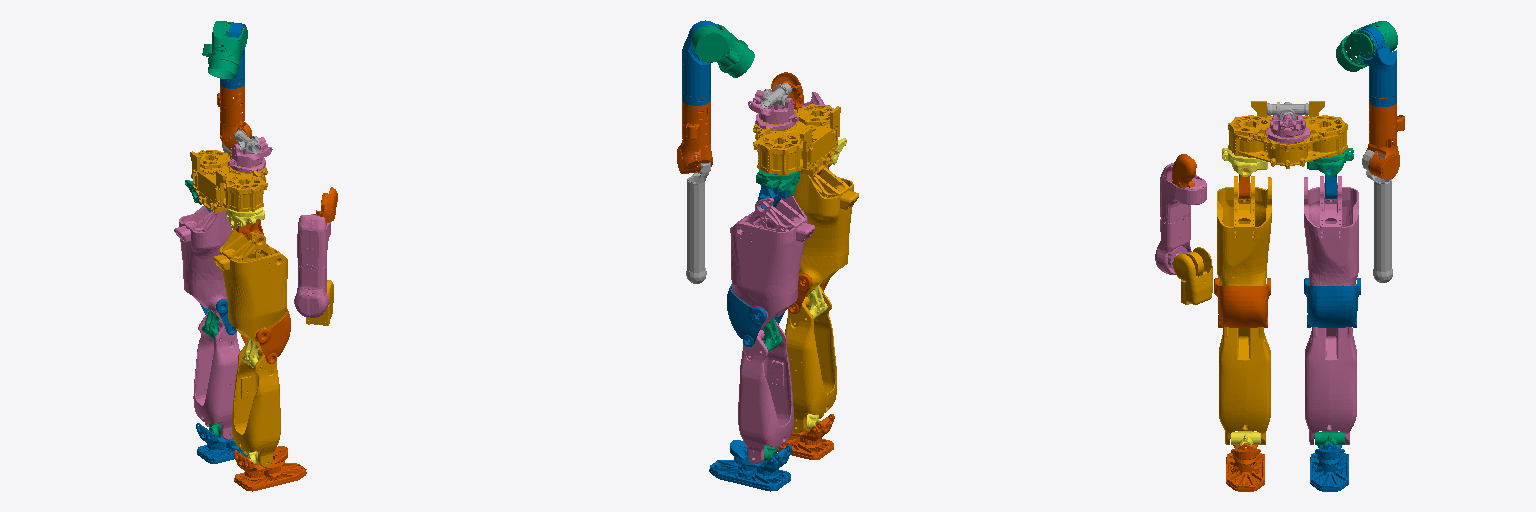
--- What the picture shows (computed from the rendered views, not written in the file) ---
3 views of the same robot in one strip: view 1: azimuth 30°, elevation 25°; view 2: azimuth 150°, elevation 25°; view 3: azimuth 270°, elevation 25° (orthographic).
Robot: nadia — 43 links, 42 joints (32 revolute, 10 fixed); root link PELVIS_LINK; default pose: every joint at zero.
Links seen in each view (by area): view 1: RIGHT_THIGH_LINK, RIGHT_SHIN_LINK, LEFT_THIGH_LINK, LEFT_SHIN_LINK, PELVIS_LINK, RIGHT_WRIST_YAW_LINK, RIGHT_FOOT_LINK, LEFT_SHOULDER_PITCH_LINK, LEFT_SHOULDER_YAW_LINK, RIGHT_KNEE_SHELL_LINK, LEFT_FOOT_LINK, SPINE_YAW_LINK (+2 smaller); view 2: LEFT_THIGH_LINK, LEFT_SHIN_LINK, RIGHT_THIGH_LINK, RIGHT_SHIN_LINK, PELVIS_LINK, LEFT_FOOT_LINK, LEFT_SHOULDER_PITCH_LINK, LEFT_ELBOW_PITCH_LINK, LEFT_SHOULDER_YAW_LINK, LEFT_SHOULDER_ROLL_LINK, LEFT_KNEE_SHELL_LINK, RIGHT_FOOT_LINK (+4 smaller); view 3: LEFT_SHIN_LINK, RIGHT_SHIN_LINK, LEFT_THIGH_LINK, RIGHT_THIGH_LINK, PELVIS_LINK, RIGHT_WRIST_YAW_LINK, LEFT_KNEE_SHELL_LINK, RIGHT_KNEE_SHELL_LINK, LEFT_SHOULDER_YAW_LINK, LEFT_ELBOW_PITCH_LINK, LEFT_SHOULDER_ROLL_LINK, RIGHT_WRIST_PITCH_LINK (+8 smaller).
Boxes of the visible links, <box> form: RIGHT_THIGH_LINK: <box>213,230,287,348</box>; RIGHT_SHIN_LINK: <box>232,341,280,467</box>; LEFT_THIGH_LINK: <box>174,206,231,319</box>; LEFT_SHIN_LINK: <box>193,311,240,439</box>; PELVIS_LINK: <box>190,150,267,212</box>; RIGHT_WRIST_YAW_LINK: <box>294,214,330,318</box>; RIGHT_FOOT_LINK: <box>233,446,306,491</box>; LEFT_SHOULDER_PITCH_LINK: <box>202,21,247,78</box>; LEFT_SHOULDER_YAW_LINK: <box>217,80,251,150</box>; RIGHT_KNEE_SHELL_LINK: <box>241,309,290,363</box>; LEFT_FOOT_LINK: <box>196,423,246,463</box>; SPINE_YAW_LINK: <box>228,136,272,172</box>; LEFT_THIGH_LINK: <box>730,196,814,329</box>; LEFT_SHIN_LINK: <box>738,320,793,464</box>; RIGHT_THIGH_LINK: <box>793,167,858,296</box>; RIGHT_SHIN_LINK: <box>785,287,836,432</box>; PELVIS_LINK: <box>753,104,840,175</box>; LEFT_FOOT_LINK: <box>709,440,791,491</box>; LEFT_SHOULDER_PITCH_LINK: <box>691,24,754,77</box>; LEFT_ELBOW_PITCH_LINK: <box>686,152,710,283</box>; LEFT_SHOULDER_YAW_LINK: <box>677,96,712,173</box>; LEFT_SHOULDER_ROLL_LINK: <box>682,20,718,105</box>; LEFT_KNEE_SHELL_LINK: <box>727,284,784,346</box>; RIGHT_FOOT_LINK: <box>777,414,834,459</box>; LEFT_SHIN_LINK: <box>1305,327,1356,444</box>; RIGHT_SHIN_LINK: <box>1219,327,1270,444</box>; LEFT_THIGH_LINK: <box>1304,176,1358,285</box>; RIGHT_THIGH_LINK: <box>1217,176,1271,285</box>; PELVIS_LINK: <box>1228,101,1347,168</box>; RIGHT_WRIST_YAW_LINK: <box>1155,162,1206,274</box>; LEFT_KNEE_SHELL_LINK: <box>1304,278,1360,327</box>; RIGHT_KNEE_SHELL_LINK: <box>1214,278,1270,327</box>; LEFT_SHOULDER_YAW_LINK: <box>1363,97,1404,179</box>; LEFT_ELBOW_PITCH_LINK: <box>1362,150,1392,282</box>; LEFT_SHOULDER_ROLL_LINK: <box>1356,26,1396,106</box>; RIGHT_WRIST_PITCH_LINK: <box>1173,247,1212,304</box>.
Bounding box of the posed robot: 0.3889 × 0.7727 × 1.56 m (x, y, z).
Meshes: 30 distinct files referenced, 27 mesh visuals loaded (25 OBJ); not drawn: 6 (reference not matched to a file when rendering).

URDF robot description (nadia):
<?xml version = "1.0" ?>
<robot name="nadia" xmlns:xacro="http://www.ros.org/wiki/xacro">

<!-- revolute joints -->
<joint name="LEFT_HIP_Z" type="revolute">
    <origin rpy="0 0 0" xyz="0 0.115 -0.07185" />
    <axis xyz="0 0 -1" />
    <parent link="PELVIS_LINK" />
    <child link="LEFT_HIP_YAW_LINK" />
    <limit effort="1000" lower="-0.7854" upper="0.7854" velocity = "100" />
    <dynamics damping="0.05" friction="0.0"/>
</joint>

<joint name="RIGHT_HIP_Z" type="revolute">
    <origin rpy="0 0 0" xyz="0 -0.115 -0.07185" />
    <axis xyz="0 0 -1" />
    <parent link="PELVIS_LINK" />
    <child link="RIGHT_HIP_YAW_LINK" />
    <limit effort="1000" lower="-0.7854" upper="0.7854" velocity = "100" />
    <dynamics damping="0.05" friction="0.0"/>
</joint>

<joint name="LEFT_HIP_X" type="revolute">
    <origin rpy="0 0 0" xyz="0.035 0.015 -0.04975" />
    <axis xyz="1 0 0" />
    <parent link="LEFT_HIP_YAW_LINK" />
    <child link="LEFT_HIP_ROLL_LINK" />
    <limit effort="1000" lower="-0.5236" upper="1.0472" velocity = "100" />
    <dynamics damping="0.05" friction="0.0"/>
</joint>

<joint name="RIGHT_HIP_X" type="revolute">
    <origin rpy="0 0 0" xyz="0.035 -0.015 -0.04975" />
    <axis xyz="1 0 0" />
    <parent link="RIGHT_HIP_YAW_LINK" />
    <child link="RIGHT_HIP_ROLL_LINK" />
    <limit effort="1000" lower="-1.0472" upper="0.5236" velocity = "100" />
    <dynamics damping="0.05" friction="0.0"/>
</joint>

<joint name="LEFT_HIP_Y" type="revolute">
    <origin rpy="0 0 0" xyz="0 0 -0.079068" />
    <axis xyz="0 1 0" />
    <parent link="LEFT_HIP_ROLL_LINK" />
    <child link="LEFT_THIGH_LINK" />
    <limit effort="1000" lower="-1.57" upper="0.314" velocity = "100" />
    <dynamics damping="0.05" friction="0.0"/>
</joint>

<joint name="RIGHT_HIP_Y" type="revolute">
    <origin rpy="0 0 0" xyz="0 0 -0.079068" />
    <axis xyz="0 1 0" />
    <parent link="RIGHT_HIP_ROLL_LINK" />
    <child link="RIGHT_THIGH_LINK" />
    <limit effort="1000" lower="-1.57" upper="0.314" velocity = "100" />
    <dynamics damping="0.05" friction="0.0"/>
</joint>

<joint name="LEFT_KNEE_SHELL_UPPER_Y" type="revolute">
    <origin rpy="0 0 0" xyz="-0.02113091 0 -0.33468461" />
    <axis xyz="0 1 0" />
    <parent link="LEFT_THIGH_LINK" />
    <child link="LEFT_KNEE_SHELL_LINK" />
    <limit effort="1000" lower="0" upper="2.62" velocity = "100" />
    <dynamics damping="0.05" friction="0.0"/>
</joint>

<joint name="RIGHT_KNEE_SHELL_UPPER_Y" type="revolute">
    <origin rpy="0 0 0" xyz="-0.02113091 0 -0.33468461" />
    <axis xyz="0 1 0" />
    <parent link="RIGHT_THIGH_LINK" />
    <child link="RIGHT_KNEE_SHELL_LINK" />
    <limit effort="1000" lower="0" upper="2.62" velocity = "100" />
    <dynamics damping="0.05" friction="0.0"/>
</joint>

<joint name="LEFT_KNEE_LINKAGE_UPPER_Y" type="revolute">
    <origin rpy="0 0 0" xyz="0 0 -0.38" />
    <axis xyz="0 1 0" />
    <parent link="LEFT_THIGH_LINK" />
    <child link="LEFT_KNEE_LINKAGE_LINK" />
    <limit effort="1000" lower="0" upper="2.62" velocity = "100" />
    <dynamics damping="0.05" friction="0.0"/>
</joint>

<joint name="RIGHT_KNEE_LINKAGE_UPPER_Y" type="revolute">
    <origin rpy="0 0 0" xyz="0 0 -0.38" />
    <axis xyz="0 1 0" />
    <parent link="RIGHT_THIGH_LINK" />
    <child link="RIGHT_KNEE_LINKAGE_LINK" />
    <limit effort="1000" lower="0" upper="2.62" velocity = "100" />
    <dynamics damping="0.05" friction="0.0"/>
</joint>

<joint name="LEFT_KNEE_SHELL_LOWER_Y" type="revolute">
    <origin rpy="0 0 0" xyz="0.04231885 0 -0.10153381" />
    <axis xyz="0 1 0" />
    <parent link="LEFT_KNEE_SHELL_LINK" />
    <child link="LEFT_SHIN_LINK" />
    <limit effort="1000" lower="0" upper="2.62" velocity = "100" />
    <dynamics damping="0.05" friction="0.0"/>
</joint>

<joint name="RIGHT_KNEE_SHELL_LOWER_Y" type="revolute">
    <origin rpy="0 0 0" xyz="0.04231885 0 -0.10153381" />
    <axis xyz="0 1 0" />
    <parent link="RIGHT_KNEE_SHELL_LINK" />
    <child link="RIGHT_SHIN_LINK" />
    <limit effort="1000" lower="0" upper="2.62" velocity = "100" />
    <dynamics damping="0.05" friction="0.0"/>
</joint>

<!--joint name="LEFT_KNEE_LINKAGE_LOWER_Y" type="revolute">
    <origin rpy="0 0 0" xyz="-0.01711428 0 -0.0883578" />
    <axis xyz="0 1 0" />
    <parent link="LEFT_KNEE_LINKAGE_LINK" />
    <child link="LEFT_SHIN_LINK" />
    <limit effort="1000" lower="0" upper="2.62" velocity = "100" />
    <dynamics damping="0.05" friction="0.0"/>
</joint>

<joint name="RIGHT_KNEE_LINKAGE_LOWER_Y" type="revolute">
    <origin rpy="0 0 0" xyz="-0.01711428 0 -0.0883578" />
    <axis xyz="0 1 0" />
    <parent link="RIGHT_KNEE_LINKAGE_LINK" />
    <child link="RIGHT_SHIN_LINK" />
    <limit effort="1000" lower="0" upper="2.62" velocity = "100" />
    <dynamics damping="0.05" friction="0.0"/>
</joint-->

<joint name="LEFT_ANKLE_Y" type="revolute">
    <origin rpy="0 0 0" xyz="-0.00830222 0 -0.40213938" />
    <axis xyz="0 1 0" />
    <parent link="LEFT_SHIN_LINK" />
    <child link="LEFT_ANKLE_LINK" />
    <limit effort="1000" lower="-1.0472" upper="0.698132" velocity = "100" />
    <dynamics damping="0.05" friction="0.0"/>
</joint>

<joint name="RIGHT_ANKLE_Y" type="revolute">
    <origin rpy="0 0 0" xyz="-0.00830222 0 -0.40213938" />
    <axis xyz="0 1 0" />
    <parent link="RIGHT_SHIN_LINK" />
    <child link="RIGHT_ANKLE_LINK" />
    <limit effort="1000" lower="-1.0472" upper="0.698132" velocity = "100" />
    <dynamics damping="0.05" friction="0.0"/>
</joint>

<joint name="LEFT_ANKLE_X" type="revolute">
    <origin rpy="0 0 0" xyz="0 0 -0.01" />
    <axis xyz="1 0 0" />
    <parent link="LEFT_ANKLE_LINK" />
    <child link="LEFT_FOOT_LINK" />
    <limit effort="1000" lower="-0.436332" upper="0.436332" velocity = "100" />
    <dynamics damping="0.05" friction="0.0"/>
</joint>

<joint name="RIGHT_ANKLE_X" type="revolute">
    <origin rpy="0 0 0" xyz="0 0 -0.01" />
    <axis xyz="1 0 0" />
    <parent link="RIGHT_ANKLE_LINK" />
    <child link="RIGHT_FOOT_LINK" />
    <limit effort="1000" lower="-0.436332" upper="0.436332" velocity = "100" />
    <dynamics damping="0.05" friction="0.0"/>
</joint>

<joint name="SPINE_Z" type="revolute">
    <origin rpy="0 0 0" xyz="0.08 0 0.00635" />
    <axis xyz="0 0 1" />
    <parent link="PELVIS_LINK" />
    <child link="SPINE_YAW_LINK" />
    <limit effort="1000" lower="-1.0472" upper="1.0472" velocity = "100" />
    <dynamics damping="0.05" friction="0.0"/>
</joint>

<joint name="SPINE_X" type="revolute">
    <origin rpy="0 0 0" xyz="0 0 0.08205" />
    <axis xyz="1 0 0" />
    <parent link="SPINE_YAW_LINK" />
    <child link="SPINE_ROLL_LINK" />
    <limit effort="1000" lower="-0.523599" upper="0.523599" velocity = "100" />
    <dynamics damping="0.05" friction="0.0"/>
</joint>

<joint name="SPINE_Y" type="revolute">
    <origin rpy="0 0 0" xyz="0 0 0.01" />
    <axis xyz="0 1 0" />
    <parent link="SPINE_ROLL_LINK" />
    <child link="TORSO_LINK" />
    <limit effort="1000" lower="-1.0472" upper="1.0472" velocity = "100" />
    <dynamics damping="0.05" friction="0.0"/>
</joint>


<!-- links -->
<link name="PELVIS_LINK">
  <inertial>
    <mass value="19.0917"/>
    <origin rpy="0 0 0" xyz="0.02073086 2.023E-05 -0.0309812"/>
    <inertia ixx="0.0942" ixy="6.05E-06" ixz="0.000379" iyy="0.0416" iyz="3.37E-07" izz="0.112" />
  </inertial>
  <visual>
    <geometry>
      <mesh filename="package://nadia_V16_description/meshes/pelvis.obj"/>
    </geometry>
    <origin rpy="0.0 0.0 0.0" xyz="0.0 0.0 0.0"/>
  </visual>
</link>

<!-- pelvis_stim_imu -->
  <joint name="PELVIS_STIM_IMU_JOINT" type="fixed">
    <parent link="PELVIS_LINK"/>
    <child link="PELVIS_STIM_IMU_LINK"/>
    <origin xyz="-0.03133646 0.02237500 -0.07000000" rpy="0.0 3.141592 0.0"/>
  </joint>

  <link name="PELVIS_STIM_IMU_LINK">
    <inertial>
      <mass value="0.0" />
      <origin xyz="0 0 0" rpy="0 0 0" />
      <inertia ixx="0.0" ixy="0.0" ixz="0.0" iyy="0.0" iyz="0.0" izz="0.0" />
    </inertial>
  </link>

  <gazebo reference="PELVIS_STIM_IMU_LINK">
    <sensor name="pelvis_stim_imu" type="imu">
      <always_on>1</always_on>
      <update_rate>1000.0</update_rate>
      <imu>
        <noise>
          <type>gaussian</type>
          <rate>
            <mean>0.0</mean>
            <stddev>2e-4</stddev>
            <bias_mean>0.0000075</bias_mean>
            <bias_stddev>0.0000008</bias_stddev>
          </rate>
          <accel>
            <mean>0.0</mean>
            <stddev>1.7e-2</stddev>
            <bias_mean>0.1</bias_mean>
            <bias_stddev>0.001</bias_stddev>
          </accel>
        </noise>
      </imu>
    </sensor>
  </gazebo>
 <!-- end pelvis stim imu -->

<link name="LEFT_HIP_YAW_LINK">
  <inertial>
    <mass value="1.814"/>
    <origin rpy="0 0 0" xyz="-0.00629727 0.00606893 -0.03971844"/>
    <inertia ixx="0.004741914" ixy="0.000527" ixz="-0.000307" iyy="0.00414" iyz="1.36E-05" izz="0.00569" />
  </inertial>
  <visual>
    <geometry>
      <mesh filename="package://nadia_V16_description/meshes/left_hip_yaw.obj"/>
    </geometry>
    <origin rpy="0.0 0.0 0.0" xyz="0.0 0.0 0.0"/>
  </visual>
</link>

<link name="RIGHT_HIP_YAW_LINK">
  <inertial>
    <mass value="1.814"/>
    <origin rpy="0 0 0" xyz="-0.00629727 -0.00606893 -0.03971844"/>
    <inertia ixx="0.004741914" ixy="-0.000527" ixz="-0.000307" iyy="0.00414" iyz="-1.36E-05" izz="0.00569" />
  </inertial>
  <visual>
    <geometry>
      <mesh filename="package://nadia_V16_description/meshes/right_hip_yaw.obj"/>
    </geometry>
    <origin rpy="0.0 0.0 0.0" xyz="0.0 0.0 0.0"/>
  </visual>
</link>

<link name="LEFT_HIP_ROLL_LINK">
  <inertial>
    <mass value="0.762"/>
    <origin rpy="0 0 0" xyz="-0.01327037 0.00316985 -0.05399997"/>
    <inertia ixx="0.001028994" ixy="-9.31E-06" ixz="0.000352" iyy="0.00138" iyz="3.22E-05" izz="0.000663" />
  </inertial>
  <visual>
    <geometry>
      <mesh filename="package://nadia_V16_description/meshes/left_hip_roll.obj"/>
    </geometry>
    <origin rpy="0.0 0.0 0.0" xyz="0.0 0.0 0.0"/>
  </visual>
</link>

<link name="RIGHT_HIP_ROLL_LINK">
  <inertial>
    <mass value="0.762"/>
    <origin rpy="0 0 0" xyz="-0.01327037 -0.00316985 -0.05399997"/>
    <inertia ixx="0.001028994" ixy="9.31E-06" ixz="0.000352" iyy="0.00138" iyz="-3.22E-05" izz="0.000663" />
  </inertial>
  <visual>
    <geometry>
      <mesh filename="package://nadia_V16_description/meshes/right_hip_roll.obj"/>
    </geometry>
    <origin rpy="0.0 0.0 0.0" xyz="0.0 0.0 0.0"/>
  </visual>
</link>

<link name="LEFT_THIGH_LINK">
  <inertial>
    <mass value="10.953"/>
    <origin rpy="0 0 0" xyz="-0.00093749 0.01134511 -0.17863144"/>
    <inertia ixx="0.1622268263" ixy="-0.000749" ixz="0.0156" iyy="0.174" iyz="0.00213" izz="0.0528" />
  </inertial>
  <visual>
    <geometry>
      <mesh filename="package://nadia_V16_description/meshes/left_thigh.obj"/>
    </geometry>
    <origin rpy="0.0 0.0 0.0" xyz="0.0 0.0 0.0"/>
  </visual>
</link>

<!-- left thigh imu -->
  <joint name="LEFT_THIGH_IMU_JOINT" type="fixed">
    <parent link="LEFT_THIGH_LINK"/>
    <child link="LEFT_THIGH_IMU_LINK"/>
    <origin xyz="0.05793744 0.01666131 -0.09511697" rpy="2.025  0.000 -1.571"/>  
  </joint>

  <link name="LEFT_THIGH_IMU_LINK">
    <inertial>
      <mass value="0.0" />
      <origin xyz="0 0 0" rpy="0 0 0" />
      <inertia ixx="0.0" ixy="0.0" ixz="0.0" iyy="0.0" iyz="0.0" izz="0.0" />
    </inertial>
  </link>

  <gazebo reference="LEFT_THIGH_IMU_LINK">
    <sensor name="left_thigh_imu" type="imu">
      <always_on>1</always_on>
      <update_rate>1000.0</update_rate>
      <imu>
        <noise>
          <type>gaussian</type>
          <rate>
            <mean>0.0</mean>
            <stddev>2e-4</stddev>
            <bias_mean>0.0000075</bias_mean>
            <bias_stddev>0.0000008</bias_stddev>
          </rate>
          <accel>
            <mean>0.0</mean>
            <stddev>1.7e-2</stddev>
            <bias_mean>0.1</bias_mean>
            <bias_stddev>0.001</bias_stddev>
          </accel>
        </noise>
      </imu>
    </sensor>
  </gazebo>
<!-- end left thigh imu -->

<link name="RIGHT_THIGH_LINK">
  <inertial>
    <mass value="10.953"/>
    <origin rpy="0 0 0" xyz="-0.00093749 -0.01134511 -0.17863144"/>
    <inertia ixx="0.1622268263" ixy="0.000749" ixz="0.0156" iyy="0.174" iyz="-0.00213" izz="0.0528" />
  </inertial>
  <visual>
    <geometry>
      <mesh filename="package://nadia_V16_description/meshes/right_thigh.obj"/>
    </geometry>
    <origin rpy="0.0 0.0 0.0" xyz="0.0 0.0 0.0"/>
  </visual>
</link>

<!-- right thigh imu -->
  <joint name="RIGHT_THIGH_IMU_JOINT" type="fixed">
    <parent link="RIGHT_THIGH_LINK"/>
    <child link="RIGHT_THIGH_IMU_LINK"/>
    <origin xyz="0.05793670 0.01066129 -0.09511742" rpy="2.025  0.000 -1.571"/>  
  </joint>

  <link name="RIGHT_THIGH_IMU_LINK">
    <inertial>
      <mass value="0.0" />
      <origin xyz="0 0 0" rpy="0 0 0" />
      <inertia ixx="0.0" ixy="0.0" ixz="0.0" iyy="0.0" iyz="0.0" izz="0.0" />
    </inertial>
  </link>

  <gazebo reference="RIGHT_THIGH_IMU_LINK">
    <sensor name="right_thigh_imu" type="imu">
      <always_on>1</always_on>
      <update_rate>1000.0</update_rate>
      <imu>
        <noise>
          <type>gaussian</type>
          <rate>
            <mean>0.0</mean>
            <stddev>2e-4</stddev>
            <bias_mean>0.0000075</bias_mean>
            <bias_stddev>0.0000008</bias_stddev>
          </rate>
          <accel>
            <mean>0.0</mean>
            <stddev>1.7e-2</stddev>
            <bias_mean>0.1</bias_mean>
            <bias_stddev>0.001</bias_stddev>
          </accel>
        </noise>
      </imu>
    </sensor>
  </gazebo>
<!-- end right thigh imu -->

<link name="LEFT_KNEE_LINKAGE_LINK">
  <inertial>
    <mass value="0.936"/>
    <origin rpy="0 0 0" xyz="0.00901763 0.00753613 -0.04368231"/>
    <inertia ixx="0.002617337" ixy="3.06E-07" ixz="0.000313" iyy="0.00159" iyz="1.51E-06" izz="0.00128" />
  </inertial>
  <visual>
    <geometry>
      <mesh filename="package://nadia_V16_description/meshes/left_knee_linkage.obj"/>
    </geometry>
    <origin rpy="0.0 0.0 0.0" xyz="0.0 0.0 0.0"/>
  </visual>
</link>

<link name="RIGHT_KNEE_LINKAGE_LINK">
  <inertial>
    <mass value="0.936"/>
    <origin rpy="0 0 0" xyz="0.00901763 -0.00753613 -0.04368231"/>
    <inertia ixx="0.002617337" ixy="-3.06E-07" ixz="0.000313" iyy="0.00159" iyz="-1.51E-06" izz="0.00128" />
  </inertial>
  <visual>
    <geometry>
      <mesh filename="package://nadia_V16_description/meshes/right_knee_linkage.obj"/>
    </geometry>
    <origin rpy="0.0 0.0 0.0" xyz="0.0 0.0 0.0"/>
  </visual>
</link>

<link name="LEFT_KNEE_SHELL_LINK">
  <inertial>
    <mass value="1.101"/>
    <origin rpy="0 0 0" xyz="0.02489954 0.00826196 -0.05330217"/>
    <inertia ixx="0.00642" ixy="-3.64E-05" ixz="1.43E-05" iyy="0.00456" iyz="-6.54E-05" izz="0.00566" />
  </inertial>
  <visual>
    <geometry>
      <mesh filename="package://nadia_V16_description/meshes/left_knee_shell.obj"/>
    </geometry>
    <origin rpy="0.0 0.0 0.0" xyz="0.0 0.0 0.0"/>
  </visual>
</link>

<link name="RIGHT_KNEE_SHELL_LINK">
  <inertial>
    <mass value="1.101"/>
    <origin rpy="0 0 0" xyz="0.02489954 -0.00826196 -0.05330217"/>
    <inertia ixx="0.00642" ixy="3.64E-05" ixz="1.43E-05" iyy="0.00456" iyz="6.54E-05" izz="0.00566" />
  </inertial>
  <visual>
    <geometry>
      <mesh filename="package://nadia_V16_description/meshes/right_knee_shell.obj"/>
    </geometry>
    <origin rpy="0.0 0.0 0.0" xyz="0.0 0.0 0.0"/>
  </visual>
</link>

<link name="LEFT_SHIN_LINK">
  <inertial>
    <mass value="5.42"/>
    <origin rpy="0 0 0" xyz="-0.01841492 0.00228086 -0.22054239"/>
    <inertia ixx="0.064437783" ixy="-0.000214" ixz="-0.00538" iyy="0.0583" iyz="-0.000962" izz="0.0136" />
  </inertial>
  <visual>
    <geometry>
      <mesh filename="package://nadia_V16_description/meshes/left_shin.obj"/>
    </geometry>
    <origin rpy="0.0 0.0 0.0" xyz="0.0 0.0 0.0"/>
  </visual>
</link>


<!-- left shin imu -->
  <joint name="LEFT_SHIN_IMU_JOINT" type="fixed">
    <parent link="LEFT_SHIN_LINK"/>
    <child link="LEFT_SHIN_IMU_LINK"/>
    <origin xyz="-0.03216129 -0.07159184 -0.1864738" rpy="-1.570796 0.0 0.0"/>  
  </joint>

  <link name="LEFT_SHIN_IMU_LINK">
    <inertial>
      <mass value="0.0" />
      <origin xyz="0 0 0" rpy="0 0 0" />
      <inertia ixx="0.0" ixy="0.0" ixz="0.0" iyy="0.0" iyz="0.0" izz="0.0" />
    </inertial>
  </link>

  <gazebo reference="LEFT_SHIN_IMU_LINK">
    <sensor name="left_shin_imu" type="imu">
      <always_on>1</always_on>
      <update_rate>1000.0</update_rate>
      <imu>
        <noise>
          <type>gaussian</type>
          <rate>
            <mean>0.0</mean>
            <stddev>2e-4</stddev>
            <bias_mean>0.0000075</bias_mean>
            <bias_stddev>0.0000008</bias_stddev>
          </rate>
          <accel>
            <mean>0.0</mean>
            <stddev>1.7e-2</stddev>
            <bias_mean>0.1</bias_mean>
            <bias_stddev>0.001</bias_stddev>
          </accel>
        </noise>
      </imu>
    </sensor>
  </gazebo>
<!-- end left shin imu -->

<link name="RIGHT_SHIN_LINK">
  <inertial>
    <mass value="5.42"/>
    <origin rpy="0 0 0" xyz="-0.01837047 -0.00241134 -0.21991278"/>
    <inertia ixx="0.064443143" ixy="0.000202" ixz="-0.00539" iyy="0.0583" iyz="0.000906" izz="0.0136" />
  </inertial>
  <visual>
    <geometry>
      <mesh filename="package://nadia_V16_description/meshes/right_shin.obj"/>
    </geometry>
    <origin rpy="0.0 0.0 0.0" xyz="0.0 0.0 0.0"/>
  </visual>
</link>

<!-- right shin imu -->
  <joint name="RIGHT_SHIN_IMU_JOINT" type="fixed">
    <parent link="RIGHT_SHIN_LINK"/>
    <child link="RIGHT_SHIN_IMU_LINK"/>
    <origin xyz="-0.002838710 0.07159142 -0.1864738" rpy="-1.570796 0.0 3.141592"/>  
  </joint>

  <link name="RIGHT_SHIN_IMU_LINK">
    <inertial>
      <mass value="0.0" />
      <origin xyz="0 0 0" rpy="0 0 0" />
      <inertia ixx="0.0" ixy="0.0" ixz="0.0" iyy="0.0" iyz="0.0" izz="0.0" />
    </inertial>
  </link>

  <gazebo reference="RIGHT_SHIN_IMU_LINK">
    <sensor name="right_shin_imu" type="imu">
      <always_on>1</always_on>
      <update_rate>1000.0</update_rate>
      <imu>
        <noise>
          <type>gaussian</type>
          <rate>
            <mean>0.0</mean>
            <stddev>2e-4</stddev>
            <bias_mean>0.0000075</bias_mean>
            <bias_stddev>0.0000008</bias_stddev>
          </rate>
          <accel>
            <mean>0.0</mean>
            <stddev>1.7e-2</stddev>
            <bias_mean>0.1</bias_mean>
            <bias_stddev>0.001</bias_stddev>
          </accel>
        </noise>
      </imu>
    </sensor>
  </gazebo>
<!-- end right shin imu -->

<link name="LEFT_ANKLE_LINK">
  <inertial>
    <mass value="0.56"/>
    <origin rpy="0 0 0" xyz="-0.00072338 -6.619E-05 -0.00399965"/>
    <inertia ixx="0.000459" ixy="2.65E-08" ixz="-2.43E-06" iyy="0.000336" iyz="1.48E-07" izz="0.000645" />
  </inertial>
  <visual>
    <geometry>
      <mesh filename="package://nadia_V16_description/meshes/ankle.obj"/>
    </geometry>
    <origin rpy="0.0 0.0 0.0" xyz="0.0 0.0 0.0"/>
  </visual>
</link>

<link name="RIGHT_ANKLE_LINK">
  <inertial>
    <mass value="0.56"/>
    <origin rpy="0 0 0" xyz="-0.00072338 6.619E-05 -0.00399965"/>
    <inertia ixx="0.000459" ixy="-2.65E-08" ixz="-2.43E-06" iyy="0.000336" iyz="-1.48E-07" izz="0.000645" />
  </inertial>
  <visual>
    <geometry>
      <mesh filename="package://nadia_V16_description/meshes/ankle.obj"/>
    </geometry>
    <origin rpy="0.0 0.0 0.0" xyz="0.0 0.0 0.0"/>
  </visual>
</link>

<link name="LEFT_FOOT_LINK">
  <inertial>
    <mass value="1.75"/>
    <origin rpy="0 0 0" xyz="0.03075449 0.00007807 -0.04382467"/>
    <inertia ixx="0.00345011" ixy="-0.0000073" ixz="0.0014225" iyy="0.00955764" iyz="-2.269e-7" izz="0.00881313" />
  </inertial>
  <visual>
    <geometry>
      <mesh filename="package://nadia_V16_description/meshes/foot.obj"/>
    </geometry>
    <origin rpy="0.0 0.0 0.0" xyz="0.0 0.0 0.0"/>
  </visual>
</link>

<link name="RIGHT_FOOT_LINK">
  <inertial>
    <mass value="1.75"/>
    <origin rpy="0 0 0" xyz="0.032048 4e-06 -0.028422"/>
    <inertia ixx="0.00345011" ixy="-0.0000073" ixz="0.0014225" iyy="0.00955764" iyz="-2.269e-7" izz="0.00881313" />
  </inertial>
  <visual>
    <geometry>
      <mesh filename="package://nadia_V16_description/meshes/foot.obj"/>
    </geometry>
    <origin rpy="0.0 0.0 0.0" xyz="0.0 0.0 0.0"/>
  </visual>
</link>

<link name="SPINE_YAW_LINK">
  <inertial>
    <mass value="0.91"/>
    <origin rpy="0 0 0" xyz="-0.00853118 -2.697E-05 0.03791445"/>
    <inertia ixx="0.00374289408" ixy="1.25497934E-07" ixz="0.000271325072" iyy="0.00403002777" iyz="-1.38015692E-07" izz="0.0062129847" />
  </inertial>
  <visual>
    <geometry>
      <mesh filename="package://nadia_V16_description/meshes/spine_yaw.obj"/>
    </geometry>
    <origin rpy="0.0 0.0 0.0" xyz="0.0 0.0 0.0"/>
  </visual>
</link>

<link name="SPINE_ROLL_LINK">
  <inertial>
    <mass value="0.44"/>
    <origin rpy="0 0 0" xyz="-0.01904983 7E-08 0.01979244"/>
    <inertia ixx="0.000373262301" ixy="-1.51441878E-10" ixz="-6.69067307E-05" iyy="0.000649978475" iyz="-1.27858402E-10" izz="0.000419408851" />
  </inertial>
  <visual>
    <geometry>
      <mesh filename="package://nadia_V16_description/meshes/spine_roll.obj"/>
    </geometry>
    <origin rpy="0.0 0.0 0.0" xyz="0.0 0.0 0.0"/>
  </visual>
</link>

<link name="TORSO_LINK">
  <inertial>
    <mass value="13.5"/>
    <origin rpy="0 0 0" xyz="-0.03613868 -2.81E-06 0.25908586"/>
    <inertia ixx="0.534504681" ixy="8.41519717E-05" ixz="-0.00672956305" iyy="0.505409852" iyz="0.000207996773" izz="0.379402013" />
  </inertial>
  <visual>
    <geometry>
      <mesh filename="package://nadia_V16_description/meshes/torso_cycloidmounts.obj"/>
    </geometry>
    <origin rpy="0.0 0.0 0.0" xyz="0.0 0.0 0.0"/>
  </visual>
</link>

<!-- torso imu -->
  <joint name="TORSO_IMU_JOINT" type="fixed">
    <parent link="TORSO_LINK"/>
    <child link="TORSO_IMU_LINK"/>
    <origin xyz="0.04529 -0.02427 0.33757" rpy="3.141592 0 0"/>  
  </joint>

  <link name="TORSO_IMU_LINK">
    <inertial>
      <mass value="0.0" />
      <origin xyz="0 0 0" rpy="0 0 0" />
      <inertia ixx="0.0" ixy="0.0" ixz="0.0" iyy="0.0" iyz="0.0" izz="0.0" />
    </inertial>
  </link>

  <gazebo reference="TORSO_IMU_LINK">
    <sensor name="torso_imu" type="imu">
      <always_on>1</always_on>
      <update_rate>1000.0</update_rate>
      <imu>
        <noise>
          <type>gaussian</type>
          <rate>
            <mean>0.0</mean>
            <stddev>2e-4</stddev>
            <bias_mean>0.0000075</bias_mean>
            <bias_stddev>0.0000008</bias_stddev>
          </rate>
          <accel>
            <mean>0.0</mean>
            <stddev>1.7e-2</stddev>
            <bias_mean>0.1</bias_mean>
            <bias_stddev>0.001</bias_stddev>
          </accel>
        </noise>
      </imu>
    </sensor>
  </gazebo>
<!-- end torso imu -->

<!-- left arm -->
<joint name="LEFT_SHOULDER_Y" type="revolute">
    <origin xyz="0.001 0.185 0.173" rpy="0.785398163 0.0 -0.785398163"   />
    <axis xyz="0.0 1.0 0.0" />
    <parent link="TORSO_LINK" />
    <child link="LEFT_SHOULDER_PITCH_LINK" />
    
    <!-- Peak torque, 10s duration -->
<!--    <limit effort="165.98" lower="-3.141592" upper="1.22173" velocity = "100" />-->

    <!-- Peak continuous torque -->
    <limit effort="51.87" lower="-3.141592" upper="1.22173" velocity = "100" />

    <dynamics damping="0.05" friction="0.0"/>
</joint>
<joint name="LEFT_SHOULDER_X" type="revolute">
    <origin rpy="-0.785398163 0.0 0.0" xyz="0.0 0.15676000 -0.01300000" />
    <axis xyz="1 0 0" />
    <parent link="LEFT_SHOULDER_PITCH_LINK" />
    <child link="LEFT_SHOULDER_ROLL_LINK" />
    
    <!-- Peak torque, 10s duration -->
<!--    <limit effort="183.74" lower="-0.261799" upper="2.87979" velocity = "100" />-->

    <!-- Peak continuous torque -->
    <limit effort="57.45" lower="-0.261799" upper="2.87979" velocity = "100" />

    <dynamics damping="0.05" friction="0.0"/>
</joint>
<joint name="LEFT_SHOULDER_Z" type="revolute">
    <origin rpy="0.0 0.0 0.0" xyz="0.0 0.035 0.0" />
    <axis xyz="0.0 0.0 1.0" />
    <parent link="LEFT_SHOULDER_ROLL_LINK" />
    <child link="LEFT_SHOULDER_YAW_LINK" />
    
    <!-- Peak current, 10s duration -->
<!--    <limit effort="78.37" lower="-1.91986" upper="1.22173" velocity = "100" />-->

    <!-- Peak continuous torque -->
    <limit effort="24.47" lower="-1.91986" upper="1.22173" velocity = "100" />

    <dynamics damping="0.05" friction="0.0"/>
</joint>
<joint name="LEFT_ELBOW_Y" type="revolute">
    <origin rpy="0.0 0.0 0.0" xyz="0.015 0.0 -0.4" />
    <axis xyz="0.0 1.0 0.0" />
    <parent link="LEFT_SHOULDER_YAW_LINK" />
    <child link="LEFT_ELBOW_PITCH_LINK" />
    
    <!-- Peak torque, 10s duration -->
<!--    <limit effort="78.37" lower="-2.35619" upper="0.174532925" velocity = "100" />-->

    <!-- Peak continuous torque -->
    <limit effort="24.47" lower="-2.35619" upper="0.174532925" velocity = "100" />

    <dynamics damping="0.05" friction="0.0"/>
</joint>

<!-- TMOTOR FOREARM
<joint name="LEFT_WRIST_Z" type="revolute">
    <origin rpy="0.0 0.0 0.0" xyz="-0.015 0.0 0.0"/>
    <axis xyz="0.0 0.0 1.0"/>
    <parent link="LEFT_ELBOW_PITCH_LINK"/>
    <child link="LEFT_WRIST_YAW_LINK"/>
    <dynamics damping="0.05" friction="0.0"/>
    <limit effort="1000.0" lower="-2.05" upper="1.5" velocity="100.0"/>
</joint>
<joint name="LEFT_WRIST_X" type="revolute">
    <origin xyz="-1.600000000000251E-5 1.500000000011154E-5 -0.3515" rpy="0.0 0.0 0.0"/>
    <axis xyz="0.9999999990320001 0.0 -4.3999999957408004E-5"/>
    <parent link="LEFT_WRIST_YAW_LINK"/>
    <child link="LEFT_WRIST_ROLL_LINK"/>
    <dynamics damping="0.05" friction="0.0"/>
    <limit effort="1000.0" lower="-2.4" upper="2.4" velocity="100.0"/>
</joint>
<joint name="LEFT_WRIST_Y" type="revolute">
    <origin xyz="0.0 0.0 0.0" rpy="0.0 0.0 0.0"/>
    <axis xyz="4.2999999920492997E-5 0.9999999981509999 4.2999999920492997E-5"/>
    <parent link="LEFT_WRIST_ROLL_LINK"/>
    <child link="LEFT_WRIST_PITCH_LINK"/>
    <dynamics damping="0.05" friction="0.0"/>
    <limit effort="1000.0" lower="-2.75" upper="0.1" velocity="100.0"/>
</joint>
<joint name="LEFT_GRIPPER_X1" type="revolute">
    <origin xyz="0.0 0.03 -0.11" rpy="-0.25 0.0 0.0"/>
    <axis xyz="1.0 0.0 0.0"/>
    <parent link="LEFT_WRIST_PITCH_LINK"/>
    <child link="LEFT_GRIPPER_ROLL1_LINK"/>
    <dynamics damping="0.05" friction="0.0"/>
    <limit effort="1.0" lower="-0.06" upper="1.9" velocity="3.67"/>
</joint>
<joint name="LEFT_GRIPPER_X2" type="revolute">
    <origin xyz="0.0 -0.03 -0.11" rpy="0.25 0.0 0.0"/>
    <axis xyz="-1.0 0.0 0.0"/>
    <parent link="LEFT_WRIST_PITCH_LINK"/>
    <child link="LEFT_GRIPPER_ROLL2_LINK"/>
    <dynamics damping="0.05" friction="0.0"/>
    <limit effort="1.0" lower="-0.06" upper="1.9" velocity="3.67"/>
</joint>
-->

<link name="LEFT_SHOULDER_PITCH_LINK">
  <inertial>
    <mass value="2.917"/>
    <origin rpy="0 0 0" xyz="-0.00117 0.1400097 -0.00621"/>
    <inertia ixx="0.0108367" ixy="1.356e-4" ixz="-2.666e-5" iyy="0.00498324" iyz="0.00090758" izz="0.01142661" />
  </inertial>
  <visual>
    <geometry>
<!-- DEFAULT MESH -->
      <mesh filename="package://nadia_V17_description/meshes/cycloidal_arm/LEFT_SHOULDER_PITCH_LINK.obj"/>

        <!-- MESH WITH IMU CHIP -->
<!--        <mesh filename="package://nadia_V17_description/meshes/cycloidal_arm/LEFT_SHOULDER_PITCH_LINK_WITH_IMU.obj"/>-->
    </geometry>
    <origin rpy="0.0 0.0 0.0" xyz="0.0 0.0 0.0"/>
  </visual>
</link>

<!-- LEFT SHOULDER PITCH IMU Information -->
<joint name="LEFT_SHOULDER_PITCH_IMU_JOINT" type="fixed">
	<origin rpy="-1.570796 1.570796 0" xyz="0.0174 0.06944 -0.03025"/>
	<axis xyz="0 0 1"/>
	<parent link="LEFT_SHOULDER_PITCH_LINK"/>
	<child link="LEFT_SHOULDER_PITCH_IMU_LINK"/>
</joint>

<link name="LEFT_SHOULDER_PITCH_IMU_LINK">
    <inertial>
      <mass value="0"/>
      <origin rpy="0 0 0" xyz="0 0 0"/>
      <inertia ixx="0.0" ixy="0.0" ixz="0.0" iyy="0.0" iyz="0.0" izz="0.0"/>
    </inertial>
</link>

<gazebo reference="LEFT_SHOULDER_PITCH_IMU_LINK">
	<sensor name="left_shoulder_pitch_imu" type="imu">
	  <always_on>true</always_on>
	  <imu>
		<noise>
		  <type>gaussian</type>
		  <rate>
			<mean>0</mean>
			<stddev>0.0002</stddev>
			<bias_mean>7.5e-06</bias_mean>
			<bias_stddev>8e-07</bias_stddev>
		  </rate>
		  <accel>
			<mean>0</mean>
			<stddev>0.017</stddev>
			<bias_mean>0.1</bias_mean>
			<bias_stddev>0.001</bias_stddev>
		  </accel>
		</noise>
	  </imu>
	</sensor>
</gazebo>

<link name="LEFT_SHOULDER_ROLL_LINK">
  <inertial>
    <mass value="1.17068"/>
    <origin rpy="0 0 0" xyz="0.01053 0.02124 -0.1052690"/>
    <inertia ixx="0.00787035" ixy="1.667e-4" ixz="-0.00075945" iyy="0.00727481" iyz="0.000988837" izz="0.00182144" />
  </inertial>
  <visual>
    <geometry>
      <mesh filename="package://nadia_V17_description/meshes/cycloidal_arm/LEFT_SHOULDER_ROLL_LINK.obj"/>
    </geometry>
    <origin rpy="0.0 0.0 0.0" xyz="0.0 0.0 0.0"/>
  </visual>
</link>

<link name="LEFT_SHOULDER_YAW_LINK">
  <inertial>
    <mass value="2.53059"/>
    <origin rpy="0 0 0" xyz="0.00479 0.00062 -0.3624141"/>
    <inertia ixx="0.02277422" ixy="5.053e-5" ixz="0.0012266" iyy="0.0225956" iyz="-2.571e-4" izz="0.00260312" />
  </inertial>
  <visual>
    <geometry>
<!-- DEFAULT MESH -->
      <mesh filename="package://nadia_V17_description/meshes/cycloidal_arm/LEFT_SHOULDER_YAW_LINK.obj"/>

        <!-- MESH WITH IMU CHIP -->
<!--        <mesh filename="package://nadia_V17_description/meshes/cycloidal_arm/LEFT_SHOULDER_YAW_LINK_WITH_IMU.obj"/>-->
    </geometry>
    <origin rpy="0.0 0.0 0.0" xyz="0.0 0.0 0.0"/>
  </visual>
</link>

<!-- Left Shoulder Yaw IMU -->
<joint name="LEFT_SHOULDER_YAW_IMU_JOINT" type="fixed">
	<origin rpy="-1.570796 3.1415926 -0.314159" xyz="-0.00763459 -0.0123324 -0.318"/>
	<axis xyz="0 0 1"/>
	<parent link="LEFT_SHOULDER_YAW_LINK"/>
	<child link="LEFT_SHOULDER_YAW_IMU_LINK"/>
</joint>

<link name="LEFT_SHOULDER_YAW_IMU_LINK">
    <inertial>
      <mass value="0"/>
      <origin rpy="0 0 0" xyz="0 0 0"/>
      <inertia ixx="0.0" ixy="0.0" ixz="0.0" iyy="0.0" iyz="0.0" izz="0.0"/>
    </inertial>
 </link>

<gazebo reference="LEFT_SHOULDER_YAW_IMU_LINK">
<sensor name="left_shoulder_yaw_imu" type="imu">
  <always_on>true</always_on>
  <pose>0 0 0 0 0 0 </pose>
  <imu>
	<noise>
	  <type>gaussian</type>
	  <rate>
		<mean>0</mean>
		<stddev>0.0002</stddev>
		<bias_mean>7.5e-06</bias_mean>
		<bias_stddev>8e-07</bias_stddev>
	  </rate>
	  <accel>
		<mean>0</mean>
		<stddev>0.017</stddev>
		<bias_mean>0.1</bias_mean>
		<bias_stddev>0.001</bias_stddev>
	  </accel>
	</noise>
  </imu>
</sensor>
</gazebo>

<link name="LEFT_ELBOW_PITCH_LINK">
  <inertial>

      <!-- Normal forearm knub -->
      <mass value="0.6007"/>
      <origin rpy="0 0 0" xyz="-0.01090935 -0.01147189 -0.10388715"/>
      <inertia ixx="0.00760733" ixy="2.242e-5" ixz="-2.583e-4" iyy="0.00767556" iyz="0.00061995" izz="4.554e-4" />

      <!-- 12lbs dumbbell -->
<!--    <mass value="5.9"/>-->
<!--    <origin rpy="0 0 0" xyz="0.05 0.0 -0.225"/>-->
<!--    <inertia ixx="0.05" ixy="2.242e-5" ixz="-2.583e-4" iyy="0.015" iyz="0.00061995" izz="0.05" />-->

  </inertial>
  <visual>
    <geometry>
      <mesh filename="package://nadia_V17_description/meshes/cycloidal_arm/LEFT_ELBOW_PITCH_LINK_413mm_LENGTH.obj"/>
    </geometry>
    <origin rpy="0.0 0.0 0.0" xyz="0.0 0.0 0.0"/>
  </visual>

  <!-- TMOTOR FOREARM
    <inertial>
        <mass value="0.212707"/>
        <origin xyz="-0.016865341264075975 0.03150131082587784 -0.030482903426309105" rpy="0.0 0.0 0.0"/>
        <inertia ixx="2.2273594564052614E-4" ixy="1.0719705332594998E-6" ixz="-4.6074579489932846E-5" iyy="2.7199002075875133E-4" iyz="-2.3810882603721977E-7" izz="1.1761403360072248E-4"/>
    </inertial>
    <visual name="LEFT_ELBOW_PITCH_LINK_visual">
        <origin xyz="0.0 0.0 0.0" rpy="4.300000000000001E-5 4.4E-5 0.0"/>
        <geometry>
            <mesh filename="models/nadia_V16_description/meshes/left_elbow_pitch.obj"/>
        </geometry>
    </visual>
  -->
</link>

<!-- TMOTOR FOREARM
<link name="LEFT_WRIST_YAW_LINK">
    <inertial>
        <mass value="1.435"/>
        <origin xyz="-0.04940474486494003 -3.964538356282111E-4 -0.19874584361487008" rpy="0.0 0.0 0.0"/>
        <inertia ixx="0.02002815285270066" ixy="-5.163355046878148E-6" ixz="-0.0039452311180198305" iyy="0.021487604642478533" iyz="-5.358378992412958E-5" izz="0.0029627625048208052"/>
    </inertial>
    <visual name="LEFT_WRIST_YAW_LINK_visual">
        <origin xyz="0.0 0.0 0.0" rpy="4.300000000000001E-5 4.4E-5 0.0"/>
        <geometry>
            <mesh filename="models/nadia_V16_description/meshes/left_wrist_yaw.obj"/>
        </geometry>
    </visual>
</link>
<link name="LEFT_WRIST_ROLL_LINK">
    <inertial>
        <mass value="0.08878"/>
        <origin xyz="-0.03287193184083433 -0.015145066592998427 0.001549795130068882" rpy="0.0 0.0 0.0"/>
        <inertia ixx="1.65398231980855E-5" ixy="6.750103919487803E-6" ixz="-2.0085155788567436E-6" iyy="4.5509965794416366E-5" iyz="3.974816843416091E-7" izz="4.3680211007498124E-5"/>
    </inertial>
    <visual name="LEFT_WRIST_ROLL_LINK_visual">
        <origin xyz="0.0 0.0 0.0" rpy="4.300000000000001E-5 4.4E-5 0.0"/>
        <geometry>
            <mesh filename="models/nadia_V16_description/meshes/left_wrist_pitch.obj"/>
        </geometry>
    </visual>
</link>
<link name="LEFT_WRIST_PITCH_LINK">
    <inertial>
        <mass value="0.8528"/>
        <origin xyz="0.007032095144740738 0.0014326213388780535 -0.04468124787844118" rpy="0.0 0.0 0.0"/>
        <inertia ixx="0.0026793906490306762" ixy="5.385994961035149E-6" ixz="1.1574361507722923E-4" iyy="0.0026581942547868197" iyz="-5.477981166632129E-5" izz="6.730090961825026E-4"/>
    </inertial>
    <visual name="LEFT_WRIST_PITCH_LINK_visual">
        <origin xyz="0.0 0.0 0.0" rpy="-4.300000000000001E-5 -4.4E-5 3.14155"/>
        <geometry>
            <mesh filename="models/nadia_V16_description/meshes/left_wrist_roll_gripper.obj"/>
        </geometry>
    </visual>
</link>

<link name="LEFT_GRIPPER_ROLL1_LINK">
    <inertial>
        <mass value="0.05"/>
        <origin xyz="0.0 0.0 0.0" rpy="0.0 0.0 0.0"/>
        <inertia ixx="0.01" ixy="0.0" ixz="0.0" iyy="0.01" iyz="0.0" izz="0.01"/>
    </inertial>
    <visual name="LEFT_GRIPPER_ROLL1_LINK_visual">
        <origin xyz="0.0 0.0 0.0" rpy="1.571 0.0 3.142"/>
        <geometry>
            <mesh filename="models/nadia_V16_description/meshes/sake_finger_knuckle_and_tip.obj"/>
        </geometry>
    </visual>
</link>
<link name="LEFT_GRIPPER_ROLL2_LINK">
    <inertial>
        <mass value="0.05"/>
        <origin xyz="0.0 0.0 0.0" rpy="0.0 0.0 0.0"/>
        <inertia ixx="0.01" ixy="0.0" ixz="0.0" iyy="0.01" iyz="0.0" izz="0.01"/>
    </inertial>
    <visual name="LEFT_GRIPPER_ROLL2_LINK_visual">
        <origin xyz="0.0 0.0 0.0" rpy="1.571 0.0 0.0"/>
        <geometry>
            <mesh filename="models/nadia_V16_description/meshes/sake_finger_knuckle_and_tip.obj"/>
        </geometry>
    </visual>
</link>
-->

<joint name="RIGHT_SHOULDER_Y" type="revolute">
    <origin xyz="0.001 -0.185 0.173" rpy="-0.785398163 0.0 0.785398163"   />
    <axis xyz="0.0 1.0 0.0" />
    <parent link="TORSO_LINK" />
    <child link="RIGHT_SHOULDER_PITCH_LINK" />
    
    <!-- Peak torque, 10s duration -->
    <limit effort="166.32" lower="-3.141592" upper="1.22173" velocity = "100" />

    <!-- Peak continuous torque -->
    <limit effort="41.50" lower="-3.141592" upper="1.22173" velocity = "100" />

    <dynamics damping="0.05" friction="0.0"/>
</joint>
<joint name="RIGHT_SHOULDER_X" type="revolute">
    <origin rpy="0.785398163 0.0 0.0" xyz="0.0 -0.15676000 -0.01300000" />
    <axis xyz="1 0 0" />
    <parent link="RIGHT_SHOULDER_PITCH_LINK" />
    <child link="RIGHT_SHOULDER_ROLL_LINK" />
    
    <!-- Peak torque, 10s duration -->
    <limit effort="166.32" lower="-2.87979" upper="0.261799" velocity = "100" />

    <!-- Peak continuous torque -->
    <limit effort="41.50" lower="-2.87979" upper="0.261799" velocity = "100" />

    <dynamics damping="0.05" friction="0.0"/>
</joint>
<joint name="RIGHT_SHOULDER_Z" type="revolute">
    <origin rpy="0.0 0.0 0.0" xyz="0.0 -0.035 0.0" />
    <axis xyz="0.0 0.0 1.0" />
    <parent link="RIGHT_SHOULDER_ROLL_LINK" />
    <child link="RIGHT_SHOULDER_YAW_LINK" />
    
    <!-- Peak torque, 10s duration -->
    <limit effort="90.5" lower="-1.22173" upper="1.91986" velocity = "100" />

    <!-- Peak continuous torque -->
    <limit effort="22.59" lower="-1.22173" upper="1.91986" velocity = "100" />

    <dynamics damping="0.05" friction="0.0"/>
</joint>
<joint name="RIGHT_ELBOW_Y" type="revolute">
    <origin rpy="0.0 0.0 0.0" xyz="0.015 0.0 -0.4" />
    <axis xyz="0.0 1.0 0.0" />
    <parent link="RIGHT_SHOULDER_YAW_LINK" />
    <child link="RIGHT_ELBOW_PITCH_LINK" />
    
    <!-- Peak torque, 10s duration -->
    <limit effort="90.5" lower="-2.35619" upper="0.174532925" velocity = "100" />
    
    <!-- Peak continuous torque -->
    <limit effort="22.59" lower="-2.35619" upper="0.174532925" velocity = "100" />

    <dynamics damping="0.05" friction="0.0"/>
</joint>
<joint name="RIGHT_WRIST_Z" type="revolute">
    <origin rpy="0.0 0.0 0.0" xyz="-0.015 0.0 0.0"/>
    <axis xyz="0.0 0.0 1.0"/>
    <parent link="RIGHT_ELBOW_PITCH_LINK"/>
    <child link="RIGHT_WRIST_YAW_LINK"/>
    <dynamics damping="0.05" friction="0.0"/>
    <limit effort="1000.0" lower="-1.5" upper="2.05" velocity="100.0"/>
</joint>
<joint name="RIGHT_WRIST_X" type="revolute">
    <origin xyz="0.0 0.0 -0.3515" rpy="0.0 0.0 0.0"/>
    <axis xyz="1.0 -0.0 0.0"/>
    <parent link="RIGHT_WRIST_YAW_LINK"/>
    <child link="RIGHT_WRIST_ROLL_LINK"/>
    <dynamics damping="0.05" friction="0.0"/>
    <limit effort="1000.0" lower="-2.4" upper="2.4" velocity="100.0"/>
</joint>
<joint name="RIGHT_WRIST_Y" type="revolute">
    <origin xyz="0.0 0.0 0.0" rpy="0.0 0.0 0.0"/>
    <axis xyz="0.0 1.0 0.0"/>
    <parent link="RIGHT_WRIST_ROLL_LINK"/>
    <child link="RIGHT_WRIST_PITCH_LINK"/>
    <dynamics damping="0.05" friction="0.0"/>
    <limit effort="1000.0" lower="-2.75" upper="0.1" velocity="100.0"/>
</joint>
<joint name="RIGHT_GRIPPER_X1" type="revolute">
    <origin xyz="0.0 0.03 -0.11" rpy="-0.25 0.0 0.0"/>
    <axis xyz="1.0 0.0 0.0"/>
    <parent link="RIGHT_WRIST_PITCH_LINK"/>
    <child link="RIGHT_GRIPPER_ROLL1_LINK"/>
    <dynamics damping="0.05" friction="0.0"/>
    <limit effort="1.0" lower="-0.06" upper="1.9" velocity="3.67"/>
</joint>
<joint name="RIGHT_GRIPPER_X2" type="revolute">
    <origin xyz="0.0 -0.03 -0.11" rpy="0.25 0.0 0.0"/>
    <axis xyz="-1.0 0.0 0.0"/>
    <parent link="RIGHT_WRIST_PITCH_LINK"/>
    <child link="RIGHT_GRIPPER_ROLL2_LINK"/>
    <dynamics damping="0.05" friction="0.0"/>
    <limit effort="1.0" lower="-0.06" upper="1.9" velocity="3.67"/>
</joint>

<link name="RIGHT_SHOULDER_PITCH_LINK">
  <inertial>
    <mass value="2.917"/>
    <origin rpy="0 0 0" xyz="-0.00117 -0.1400097 -0.00621"/>
    <inertia ixx="0.0108367" ixy="-1.356e-4" ixz="-2.666e-5" iyy="0.00498324" iyz="-0.00090758" izz="0.01142661" />
  </inertial>
  <visual>
    <geometry>
<!-- DEFAULT MESH -->
      <mesh filename="package://nadia_V17_description/meshes/cycloidal_arm/RIGHT_SHOULDER_PITCH_LINK.obj"/>

        <!-- MESH WITH IMU CHIP -->
<!--      <mesh filename="package://nadia_V17_description/meshes/cycloidal_arm/RIGHT_SHOULDER_PITCH_LINK_WITH_IMU.obj"/>-->
    </geometry>
    <origin rpy="0.0 0.0 0.0" xyz="0.0 0.0 0.0"/>
  </visual>
</link>

    <!-- RIGHT SHOULDER PITCH IMU Information -->
    <joint name="RIGHT_SHOULDER_PITCH_IMU_JOINT" type="fixed">
        <origin rpy="1.570796 -1.570796 0" xyz="0.0175 -0.0704 -0.00778"/>
        <axis xyz="0 0 1"/>
        <parent link="RIGHT_SHOULDER_PITCH_LINK"/>
        <child link="RIGHT_SHOULDER_PITCH_IMU_LINK"/>
    </joint>

    <link name="RIGHT_SHOULDER_PITCH_IMU_LINK">
        <inertial>
            <mass value="0"/>
            <origin rpy="0 0 0" xyz="0 0 0"/>
            <inertia ixx="0.0" ixy="0.0" ixz="0.0" iyy="0.0" iyz="0.0" izz="0.0"/>
        </inertial>
    </link>

    <gazebo reference="RIGHT_SHOULDER_PITCH_IMU_LINK">
        <sensor name="right_shoulder_pitch_imu" type="imu">
            <always_on>true</always_on>
            <imu>
                <noise>
                    <type>gaussian</type>
                    <rate>
                        <mean>0</mean>
                        <stddev>0.0002</stddev>
                        <bias_mean>7.5e-06</bias_mean>
                        <bias_stddev>8e-07</bias_stddev>
                    </rate>
                    <accel>
                        <mean>0</mean>
                        <stddev>0.017</stddev>
                        <bias_mean>0.1</bias_mean>
                        <bias_stddev>0.001</bias_stddev>
                    </accel>
                </noise>
            </imu>
        </sensor>
    </gazebo>

<link name="RIGHT_SHOULDER_ROLL_LINK">
  <inertial>
    <mass value="1.17068"/>
    <origin rpy="0 0 0" xyz="0.01053 -0.02124 -0.1052690"/>
    <inertia ixx="0.00787035" ixy="-1.667e-4" ixz="-0.00075945" iyy="0.00727481" iyz="-0.000988837" izz="0.00182144" />
  </inertial>
  <visual>
    <geometry>
      <mesh filename="package://nadia_V17_description/meshes/cycloidal_arm/RIGHT_SHOULDER_ROLL_LINK.obj"/>
    </geometry>
    <origin rpy="0.0 0.0 0.0" xyz="0.0 0.0 0.0"/>
  </visual>
</link>

<link name="RIGHT_SHOULDER_YAW_LINK">
  <inertial>
    <mass value="2.53059"/>
    <origin rpy="0 0 0" xyz="0.00479 -0.00062 -0.3624141"/>
    <inertia ixx="0.02277422" ixy="-5.053e-5" ixz="0.0012266" iyy="0.0225956" iyz="2.571e-4" izz="0.00260312" />
  </inertial>
  <visual>
    <geometry>
<!-- DEFAULT MESH -->
      <mesh filename="package://nadia_V17_description/meshes/cycloidal_arm/RIGHT_SHOULDER_YAW_LINK.obj"/>

        <!-- MESH WITH IMU CHIP -->
<!--      <mesh filename="package://nadia_V17_description/meshes/cycloidal_arm/RIGHT_SHOULDER_YAW_LINK_WITH_IMU.obj"/>-->
    </geometry>
    <origin rpy="0.0 0.0 0.0" xyz="0.0 0.0 0.0"/>
  </visual>
</link>

    <!-- Right Shoulder Yaw IMU -->
    <joint name="RIGHT_SHOULDER_YAW_IMU_JOINT" type="fixed">
        <origin rpy="1.570796 0 0.314159" xyz="0.002 0.016 -0.318"/>
        <axis xyz="0 0 1"/>
        <parent link="RIGHT_SHOULDER_YAW_LINK"/>
        <child link="RIGHT_SHOULDER_YAW_IMU_LINK"/>
    </joint>

    <link name="RIGHT_SHOULDER_YAW_IMU_LINK">
        <inertial>
            <mass value="0"/>
            <origin rpy="0 0 0" xyz="0 0 0"/>
            <inertia ixx="0.0" ixy="0.0" ixz="0.0" iyy="0.0" iyz="0.0" izz="0.0"/>
        </inertial>
    </link>

    <gazebo reference="RIGHT_SHOULDER_YAW_IMU_LINK">
        <sensor name="right_shoulder_yaw_imu" type="imu">
            <always_on>true</always_on>
            <imu>
                <noise>
                    <type>gaussian</type>
                    <rate>
                        <mean>0</mean>
                        <stddev>0.0002</stddev>
                        <bias_mean>7.5e-06</bias_mean>
                        <bias_stddev>8e-07</bias_stddev>
                    </rate>
                    <accel>
                        <mean>0</mean>
                        <stddev>0.017</stddev>
                        <bias_mean>0.1</bias_mean>
                        <bias_stddev>0.001</bias_stddev>
                    </accel>
                </noise>
            </imu>
        </sensor>
    </gazebo>

<link name="RIGHT_ELBOW_PITCH_LINK">
    <inertial>
        <mass value="0.212707"/>
        <origin xyz="-0.016863085413116777 -0.03149905494986441 -0.030486482391633037" rpy="0.0 0.0 0.0"/>
        <inertia ixx="2.2274276410737023E-4" ixy="-1.0685793135786208E-6" ixz="-4.606687916539878E-5" iyy="2.7198998468024087E-4" iyz="2.4945372225947213E-7" izz="1.1760725121238894E-4"/>
    </inertial>
    <visual name="RIGHT_ELBOW_PITCH_LINK_visual">
        <origin xyz="0.0 0.0 0.0" rpy="3.1E-5 -3.0E-5 -5.169878830782869E-26"/>
        <geometry>
            <mesh filename="models/nadia_V16_description/meshes/right_elbow_pitch.obj"/>
        </geometry>
    </visual>
</link>

<link name="RIGHT_WRIST_YAW_LINK">
    <inertial>
        <mass value="1.435"/>
        <origin xyz="-0.049390037537398915 -3.988388118063843E-4 -0.19874949425006477" rpy="0.0 0.0 0.0"/>
        <inertia ixx="0.02002873665345018" ixy="-5.206716925535244E-6" ixz="-0.003943968173753216" iyy="0.0214876033537945" iyz="-5.380647554156906E-5" izz="0.0029621799927553156"/>
    </inertial>
    <visual name="RIGHT_WRIST_YAW_LINK_visual">
        <origin xyz="0.0 0.0 0.0" rpy="3.1E-5 -3.0E-5 -5.169878830782869E-26"/>
        <geometry>
            <mesh filename="models/nadia_V16_description/meshes/right_wrist_yaw.obj"/>
        </geometry>
    </visual>
</link>
<link name="RIGHT_WRIST_ROLL_LINK">
    <inertial>
        <mass value="0.08878"/>
        <origin xyz="-0.03287204644112272 -0.01514504801172282 0.00154754434355909" rpy="0.0 0.0 0.0"/>
        <inertia ixx="1.654012061187089E-5" ixy="6.750050371017212E-6" ixz="-2.0106049461558907E-6" iyy="4.55099753408414E-5" iyz="3.979592309257661E-7" izz="4.367990404728772E-5"/>
    </inertial>
    <visual name="RIGHT_WRIST_ROLL_LINK_visual">
        <origin xyz="0.0 0.0 0.0" rpy="3.1E-5 -3.0E-5 -5.169878830782869E-26"/>
        <geometry>
            <mesh filename="models/nadia_V16_description/meshes/right_wrist_pitch.obj"/>
        </geometry>
    </visual>
</link>
<link name="RIGHT_WRIST_PITCH_LINK">
    <inertial>
        <mass value="0.8528"/>
        <origin xyz="0.007035401515470129 0.0014320850264847192 -0.04468074457742438" rpy="0.0 0.0 0.0"/>
        <inertia ixx="0.0026793735081112975" ixy="5.3914396871062444E-6" ixz="1.1589202029122785E-4" iyy="0.0026581929394452054" iyz="-5.480324126350978E-5" izz="6.730275524434961E-4"/>
    </inertial>
    <visual name="RIGHT_WRIST_PITCH_LINK_visual">
        <origin xyz="-0.0 0.0 0.0" rpy="-3.1E-5 3.0E-5 3.14155"/>
        <geometry>
            <mesh filename="models/nadia_V16_description/meshes/right_wrist_roll_gripper.obj"/>
        </geometry>
    </visual>
</link>

<link name="RIGHT_GRIPPER_ROLL1_LINK">
    <inertial>
        <mass value="0.05"/>
        <origin xyz="0.0 0.0 0.0" rpy="0.0 0.0 0.0"/>
        <inertia ixx="0.01" ixy="0.0" ixz="0.0" iyy="0.01" iyz="0.0" izz="0.01"/>
    </inertial>
    <visual name="RIGHT_GRIPPER_ROLL1_LINK_visual">
        <origin xyz="0.0 0.0 0.0" rpy="1.571 0.0 3.142"/>
        <geometry>
            <mesh filename="models/nadia_V16_description/meshes/sake_finger_knuckle_and_tip.obj"/>
        </geometry>
    </visual>
</link>
<link name="RIGHT_GRIPPER_ROLL2_LINK">
    <inertial>
        <mass value="0.05"/>
        <origin xyz="0.0 0.0 0.0" rpy="0.0 0.0 0.0"/>
        <inertia ixx="0.01" ixy="0.0" ixz="0.0" iyy="0.01" iyz="0.0" izz="0.01"/>
    </inertial>
    <visual name="RIGHT_GRIPPER_ROLL2_LINK_visual">
        <origin xyz="0.0 0.0 0.0" rpy="1.571 0.0 0.0"/>
        <geometry>
            <mesh filename="models/nadia_V16_description/meshes/sake_finger_knuckle_and_tip.obj"/>
        </geometry>
    </visual>
</link>

</robot>
